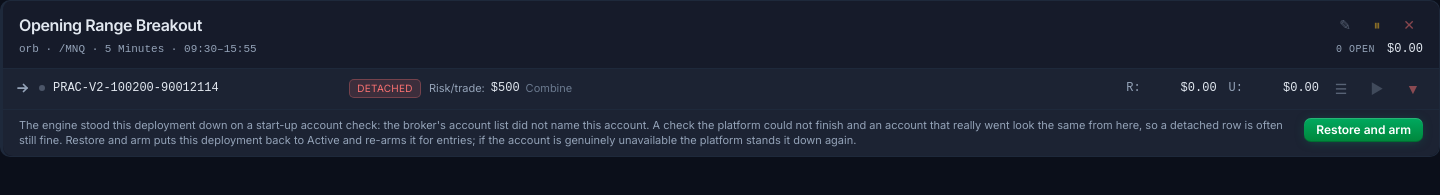
Test: BoardCard — a detached row carries the way back off itself › renders a refusal verbatim and leaves the row visibly unchanged
What coordinates should you click on to do the following:
click the button "Restore and arm"
I would click on:
 (1364, 130)
Its box is [1304, 118, 1423, 142].
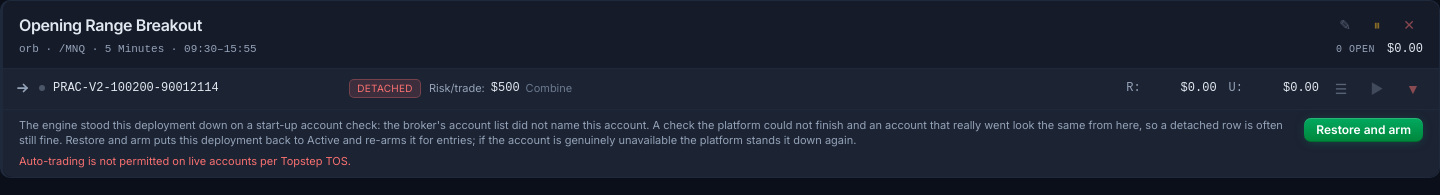
Expected: the text "The engine stood this deployment down on a start-up account check: the broker's account list did not name this account." is shown, [19, 118, 649, 132]
Now the text "Auto-trading is not permitted on live accounts per Topstep TOS." is shown, box [19, 154, 351, 168]
